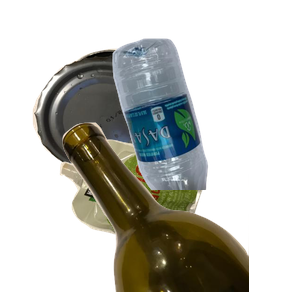glass: (60, 120, 300, 300)
metal: (30, 46, 205, 215)
plastic: (110, 36, 300, 216)
trash: (57, 137, 257, 300)
